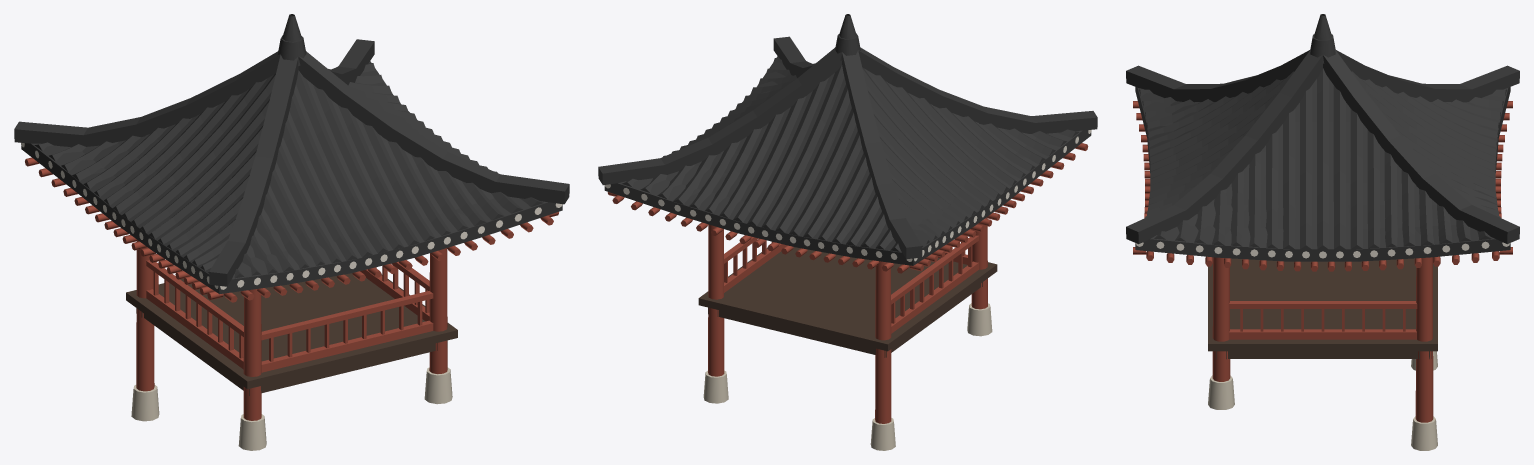
The model's file is Z1_Waryong.fbx.
3 views of the same model, side by side, from view 1: azimuth 30°, elevation 25°; view 2: azimuth 150°, elevation 25°; view 3: azimuth 270°, elevation 25° (orthographic). The views are drawn at different scales.
Parts seen in each view (by area): view 1: pavilion_046_LOD0, pavilion_046_Detail_LOD0; view 2: pavilion_046_LOD0, pavilion_046_Detail_LOD0; view 3: pavilion_046_LOD0, pavilion_046_Detail_LOD0.
Boxes of the visible parts, bbox=[...] form: pavilion_046_LOD0: bbox=[14, 14, 569, 450]; pavilion_046_Detail_LOD0: bbox=[153, 265, 429, 361]; pavilion_046_LOD0: bbox=[598, 14, 1097, 450]; pavilion_046_Detail_LOD0: bbox=[724, 240, 972, 323]; pavilion_046_LOD0: bbox=[1126, 14, 1519, 450]; pavilion_046_Detail_LOD0: bbox=[1240, 309, 1405, 331].
Size of what is drawn, in the model's own units: 5.82 by 6.43 by 5.82.
